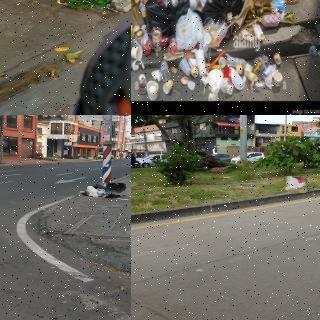Garbage: (284, 176, 307, 193), (106, 183, 127, 195), (86, 185, 98, 197), (96, 189, 107, 196)
